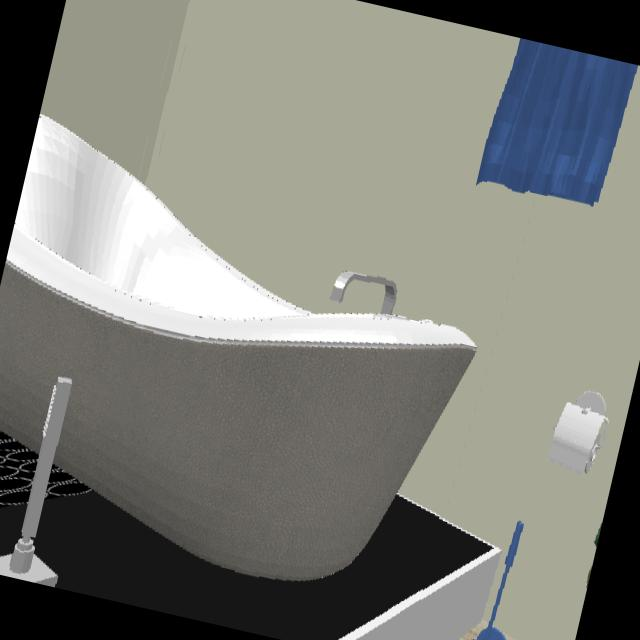bathtube: (0, 114, 477, 585)
